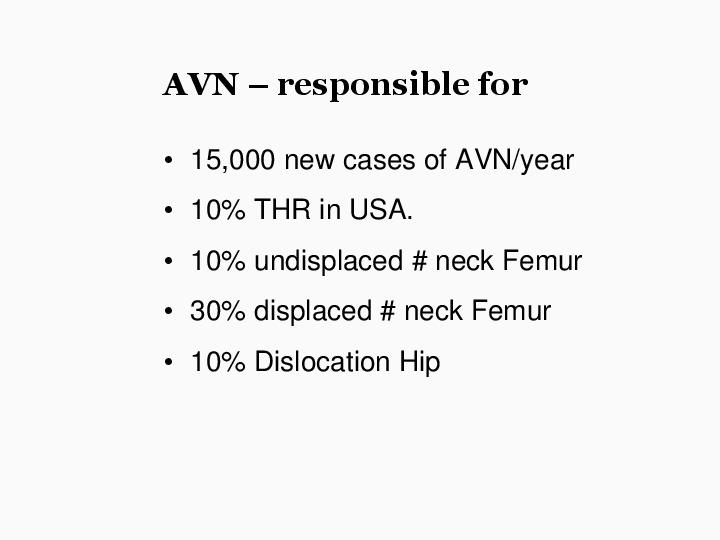paragraph: (143, 133, 638, 421)
title: (154, 56, 554, 122)
